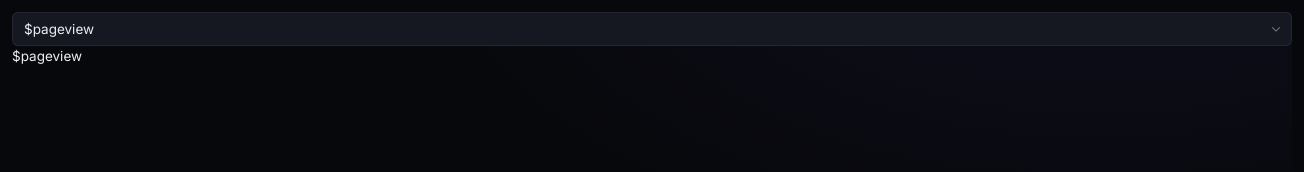
Test: SuggestInput › keeps free text that is not in the list
Replace the text in the dropdown named "Series 1 event" with "custom_event": {"x": 652, "y": 29} [12,12,1292,46]
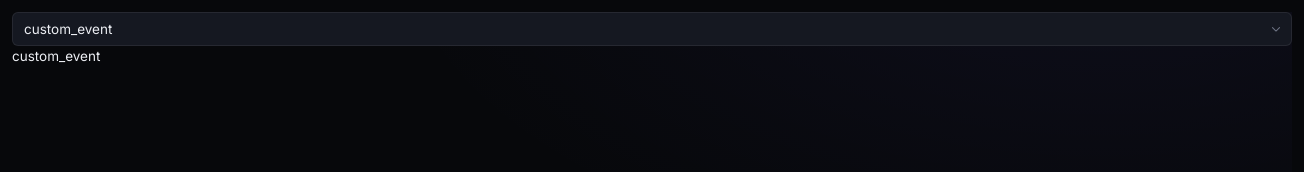
Now the text with test id "value" reads "custom_event", box [12,48,100,64]
